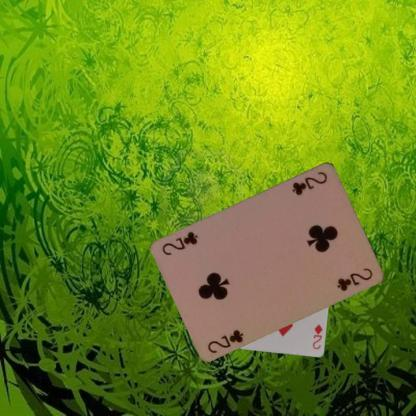2c: (289, 169, 329, 196), (205, 327, 245, 354)
2d: (310, 321, 324, 350)
